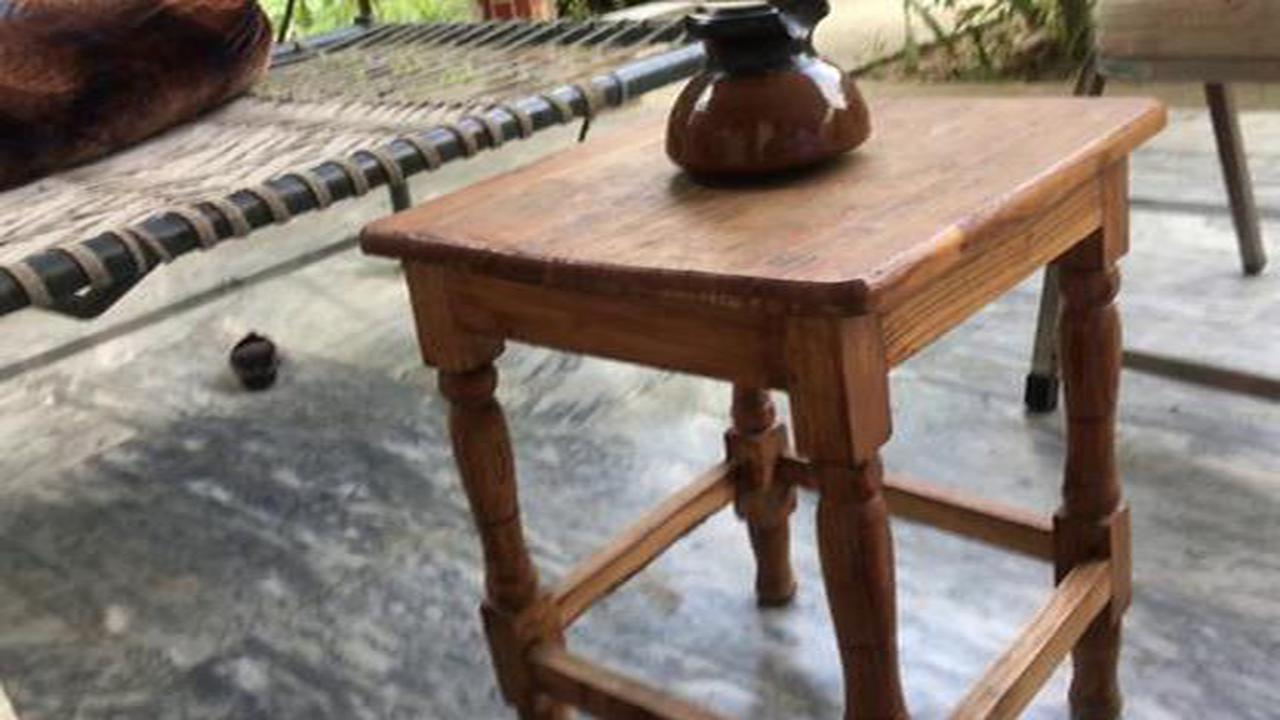insulator_pin: (650, 2, 908, 187)
